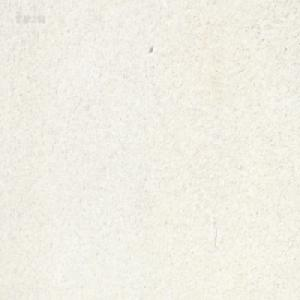Wrench: (191, 0, 197, 5)
